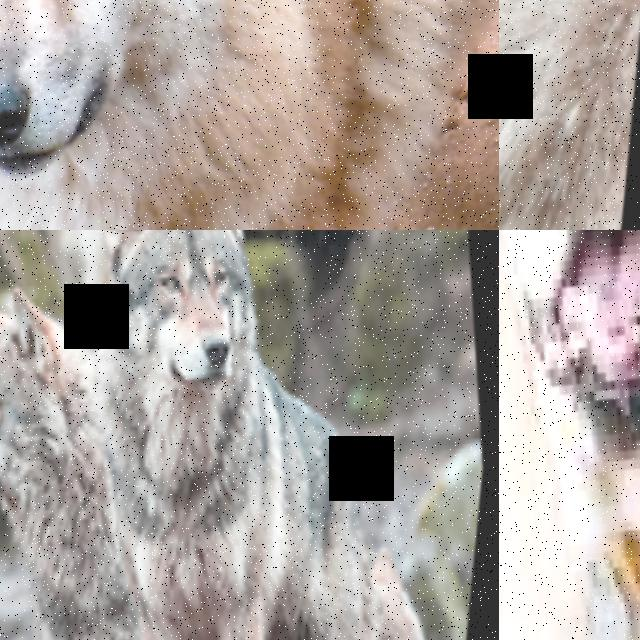dog: (499, 230, 640, 640)
wolf: (18, 230, 461, 640), (0, 0, 499, 230), (0, 239, 233, 640), (499, 0, 640, 230), (0, 330, 78, 640)
